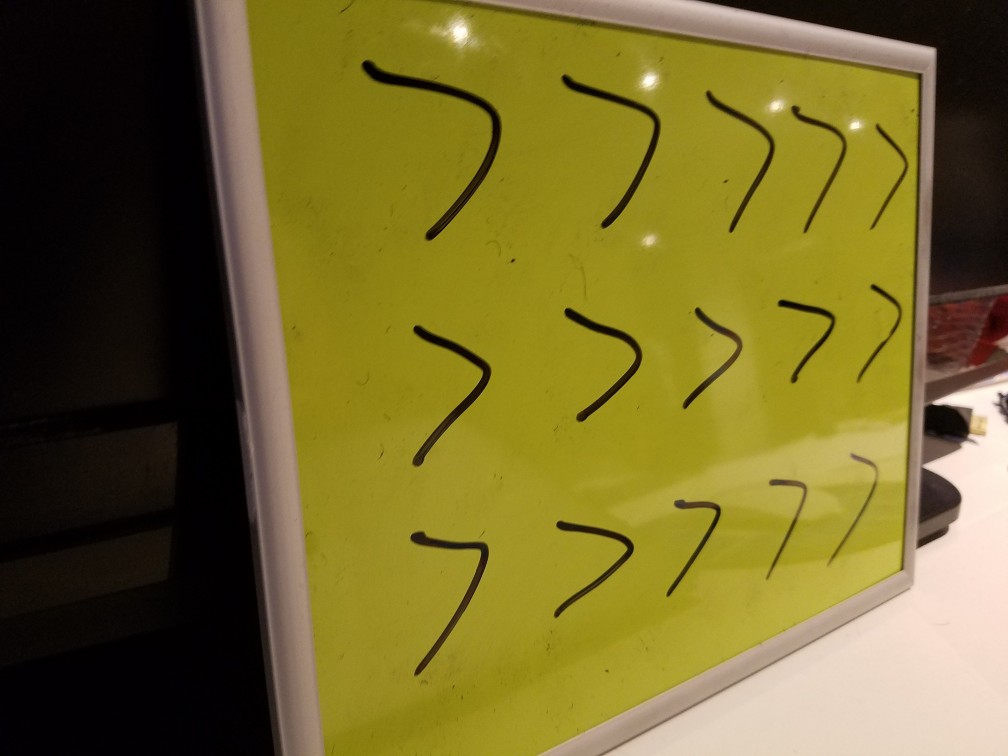>: (359, 21, 516, 248), (388, 494, 501, 685), (557, 50, 673, 236), (387, 292, 495, 486), (547, 273, 652, 454), (533, 482, 651, 630), (697, 54, 787, 248), (669, 263, 756, 447), (650, 470, 739, 630), (764, 266, 851, 418), (744, 447, 823, 595), (783, 73, 853, 240), (847, 257, 905, 400), (828, 433, 885, 575), (862, 99, 915, 239)
